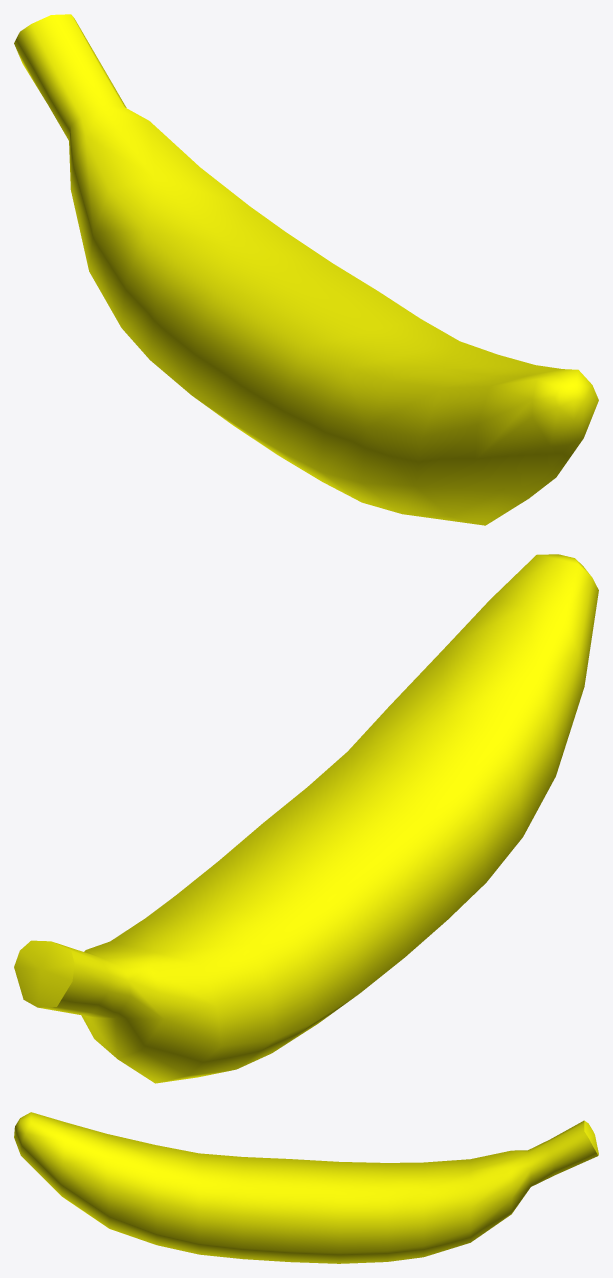
The model's file is Bannana.fbx.
3 views of the same model, one above another, from view 1: azimuth 30°, elevation 25°; view 2: azimuth 150°, elevation 25°; view 3: azimuth 270°, elevation 25° (orthographic). The views are drawn at different scales.
Visible parts, largest first — view 1: polySurface35, polySurface32, polySurface26, polySurface27, polySurface24, polySurface34, polySurface28, polySurface29, polySurface25, polySurface33, polySurface31, polySurface30; view 2: polySurface24, polySurface32, polySurface33, polySurface27, polySurface29, polySurface26, polySurface25, polySurface28, polySurface34, polySurface30, polySurface31, polySurface35; view 3: polySurface32, polySurface26, polySurface27, polySurface24, polySurface25, polySurface33, polySurface28, polySurface34, polySurface31, polySurface29, polySurface30, polySurface35.
Part boxes in pixels (x1=…): polySurface35: x1=475, y1=369, x2=598, y2=498; polySurface32: x1=191, y1=263, x2=377, y2=453; polySurface26: x1=236, y1=291, x2=420, y2=480; polySurface27: x1=150, y1=232, x2=331, y2=394; polySurface24: x1=361, y1=354, x2=534, y2=525; polySurface34: x1=415, y1=365, x2=561, y2=525; polySurface28: x1=89, y1=167, x2=249, y2=327; polySurface29: x1=14, y1=14, x2=148, y2=189; polySurface25: x1=280, y1=319, x2=459, y2=501; polySurface33: x1=320, y1=341, x2=497, y2=513; polySurface31: x1=121, y1=206, x2=285, y2=359; polySurface30: x1=71, y1=121, x2=199, y2=270; polySurface24: x1=389, y1=651, x2=555, y2=836; polySurface32: x1=218, y1=823, x2=405, y2=993; polySurface33: x1=348, y1=706, x2=522, y2=882; polySurface27: x1=176, y1=861, x2=359, y2=1051; polySurface29: x1=14, y1=940, x2=164, y2=1059; polySurface26: x1=263, y1=787, x2=447, y2=956; polySurface25: x1=307, y1=751, x2=486, y2=919; polySurface28: x1=110, y1=918, x2=274, y2=1083; polySurface34: x1=442, y1=599, x2=584, y2=775; polySurface30: x1=86, y1=941, x2=221, y2=1083; polySurface31: x1=146, y1=895, x2=312, y2=1068; polySurface35: x1=490, y1=554, x2=598, y2=686; polySurface32: x1=289, y1=1159, x2=339, y2=1263; polySurface26: x1=242, y1=1157, x2=289, y2=1261; polySurface27: x1=339, y1=1162, x2=387, y2=1263; polySurface24: x1=106, y1=1133, x2=156, y2=1244; polySurface25: x1=199, y1=1153, x2=242, y2=1258; polySurface33: x1=155, y1=1145, x2=199, y2=1254; polySurface28: x1=423, y1=1159, x2=470, y2=1256; polySurface34: x1=61, y1=1122, x2=109, y2=1228; polySurface31: x1=387, y1=1162, x2=423, y2=1261; polySurface29: x1=511, y1=1120, x2=598, y2=1213; polySurface30: x1=470, y1=1150, x2=511, y2=1242; polySurface35: x1=14, y1=1112, x2=64, y2=1196.
Bounding box in the file's own units: 6.08 × 9.15 × 33.39.
